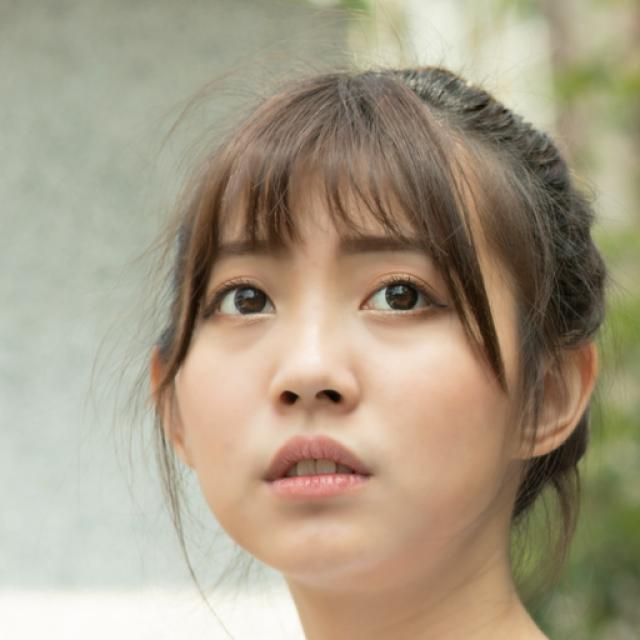neutral: (174, 134, 518, 584)
